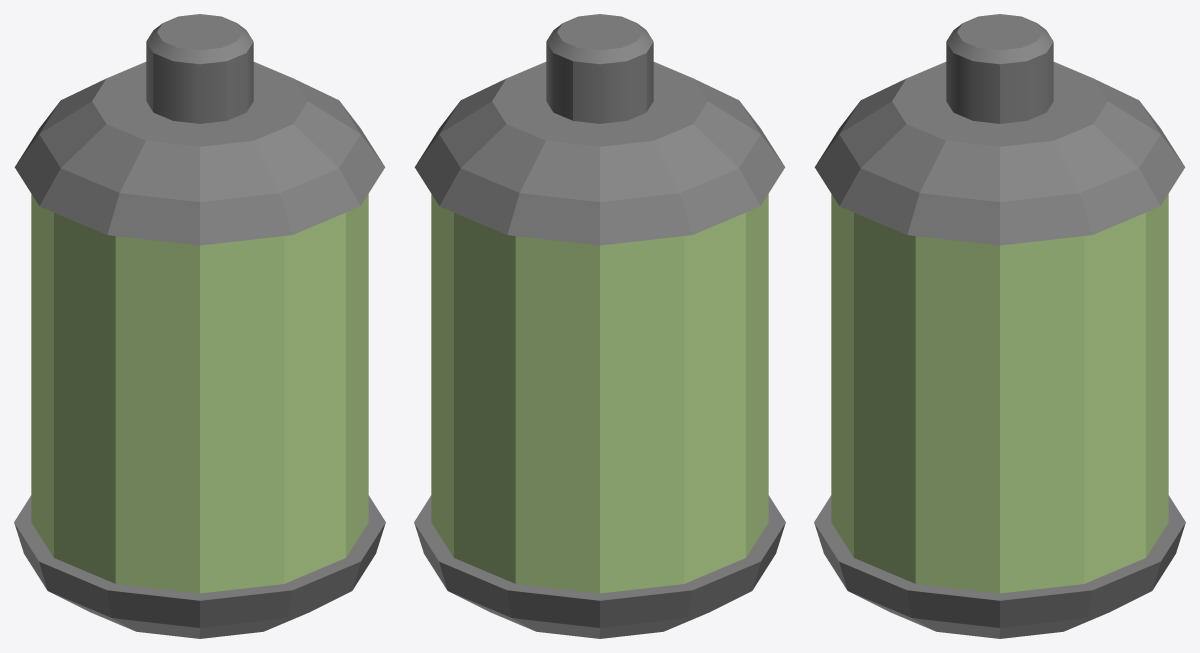
Rendered from SM_Battery.fbx.
3 views of the same model, side by side, from view 1: azimuth 30°, elevation 25°; view 2: azimuth 150°, elevation 25°; view 3: azimuth 270°, elevation 25° (orthographic).
Parts seen in each view (by area): view 1: battery; view 2: battery; view 3: battery.
Part boxes in pixels (x1,y1,x2,y2): battery: [14, 14, 385, 638]; battery: [414, 14, 785, 638]; battery: [814, 14, 1185, 638].
Bounding box in the file's own units: 143 × 235 × 143.
